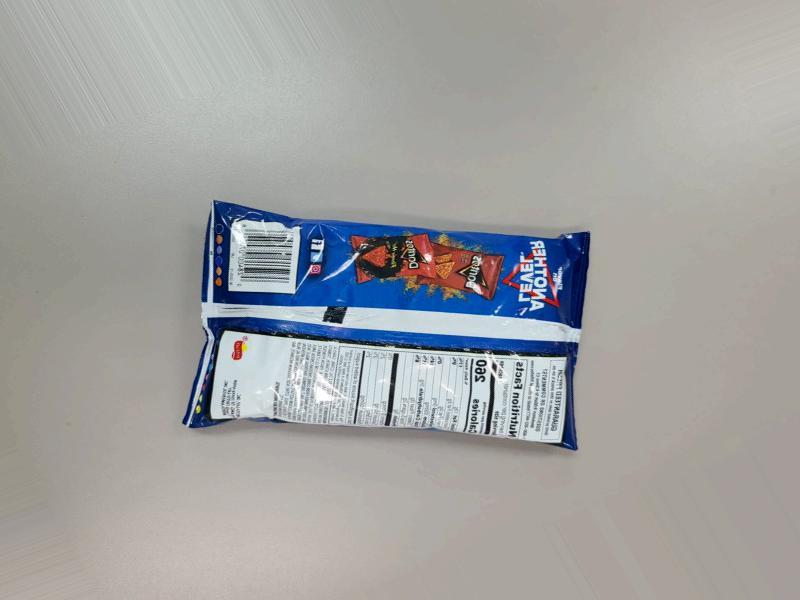doritos: (190, 197, 596, 463)
